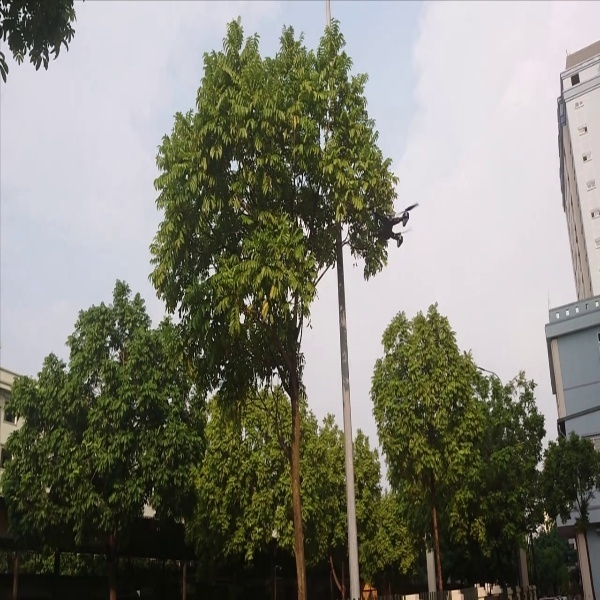drone: (360, 202, 419, 247)
